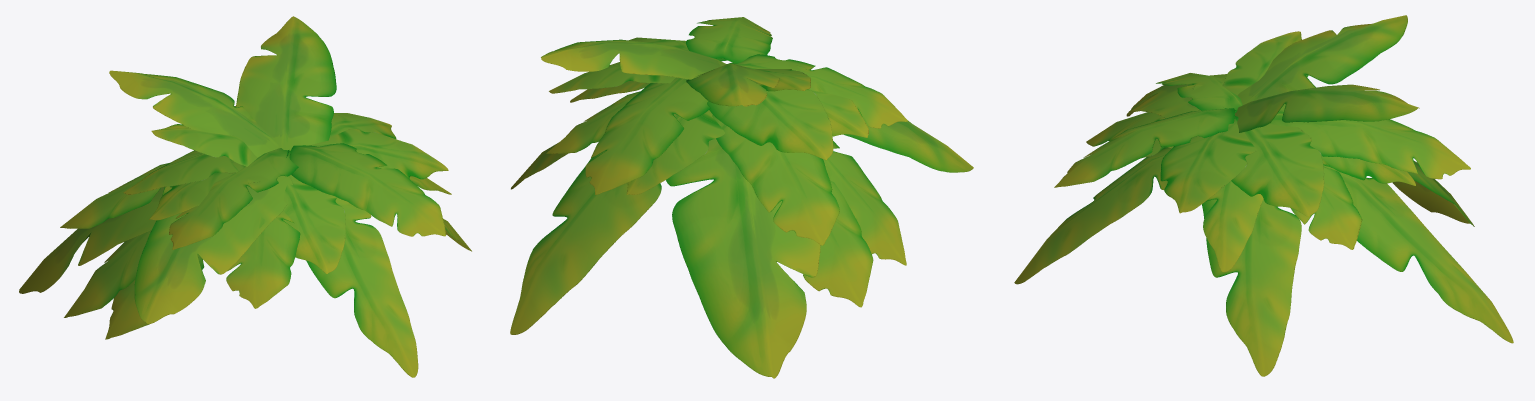
The model's file is Folliage_Palm03.fbx.
3 views of the same model, side by side, from view 1: azimuth 30°, elevation 25°; view 2: azimuth 150°, elevation 25°; view 3: azimuth 270°, elevation 25° (orthographic). The views are drawn at different scales.
Visible parts, largest first — view 1: Folliage_Palm03_01; view 2: Folliage_Palm03_01; view 3: Folliage_Palm03_01.
Part boxes in pixels (x1,y1,x2,y2): Folliage_Palm03_01: (19, 16, 471, 377); Folliage_Palm03_01: (510, 17, 973, 378); Folliage_Palm03_01: (1014, 15, 1513, 376).
Bounding box in the file's own units: 6.41 × 3.74 × 6.84.
